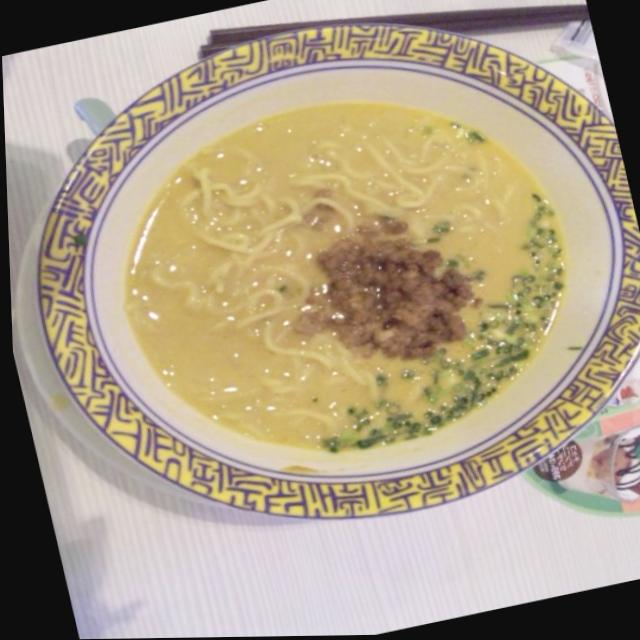面条主食: (0, 0, 533, 505)
